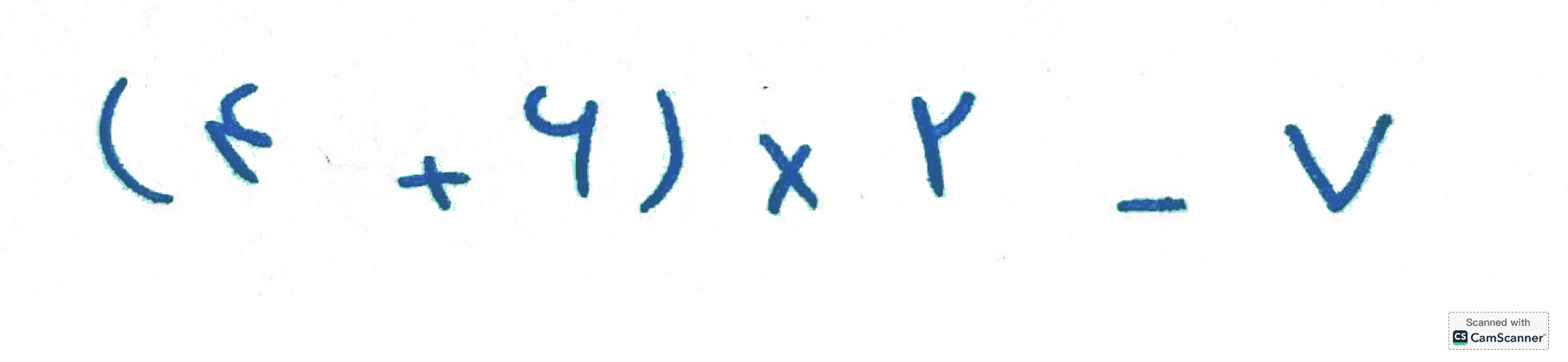character: (226, 178, 354, 299), (1152, 210, 1275, 315), (123, 182, 212, 326), (626, 189, 717, 308), (761, 196, 813, 324), (482, 246, 560, 321), (944, 249, 1010, 321), (1490, 280, 1567, 303)
